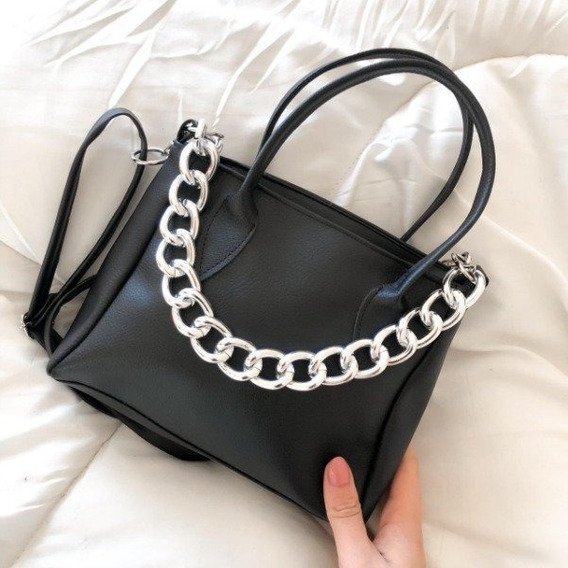cartera: (49, 47, 498, 528)
